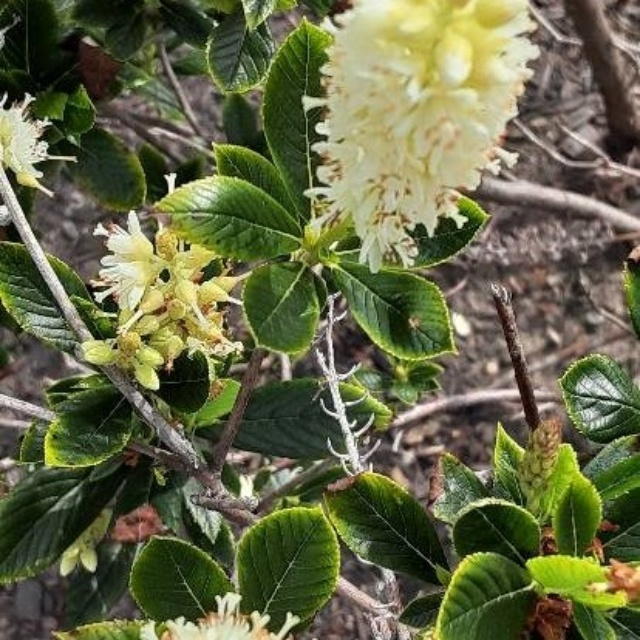obstacle: (108, 36, 533, 365), (110, 447, 584, 634)
